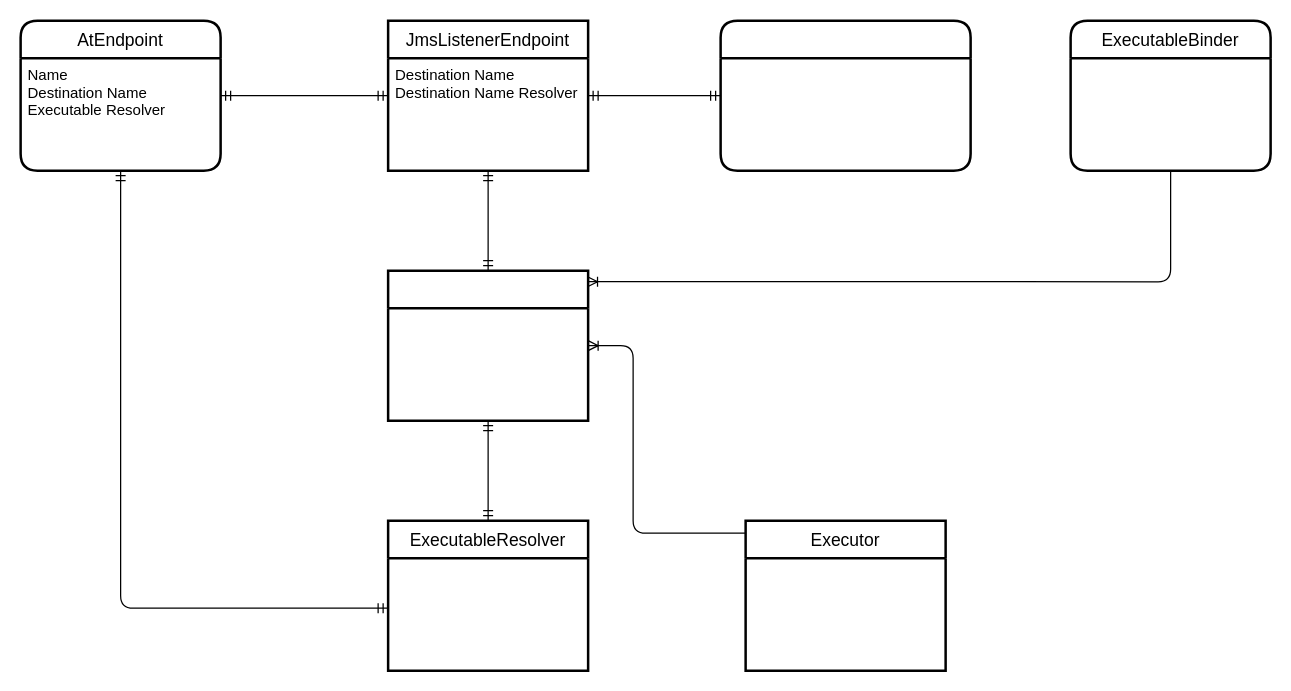
This 1291x691 diagram has some shape labels left out. The centre of each missing label's shape, as x and y in pixels:
DestinationNameResolver: the point at 845,95
InvokableDispatcher: the point at 487,345
